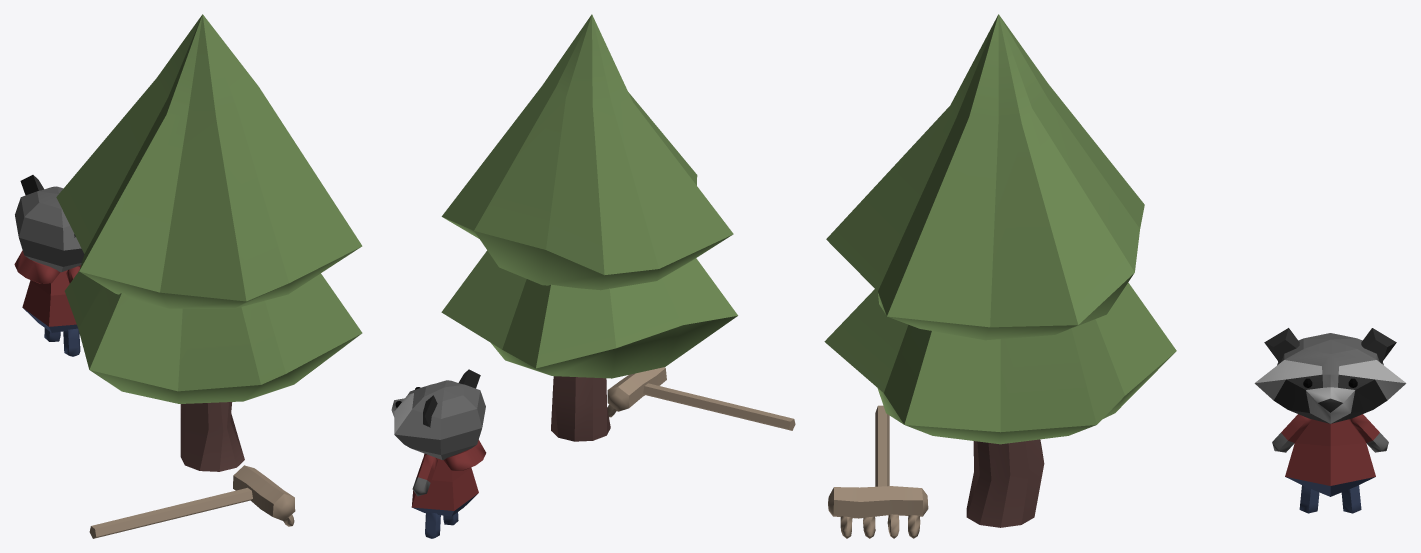
The model's file is art_xin.fbx.
3 views of the same model, side by side, from view 1: azimuth 30°, elevation 25°; view 2: azimuth 150°, elevation 25°; view 3: azimuth 270°, elevation 25° (orthographic). The views are drawn at different scales.
Parts seen in each view (by area): view 1: leaves1, leaves2, Head, trunk, handle, Body, main, Hoodie, LegRight; view 2: leaves1, leaves2, Head, trunk, Body, handle, main, Hoodie, ArmLeft, Ears; view 3: leaves1, leaves2, Head, trunk, Body, main, Ears, handle, ArmRight, ArmLeft.
Boxes of the visible parts, bbox=[...] form: leaves1: bbox=[56, 14, 362, 308]; leaves2: bbox=[64, 271, 362, 403]; Head: bbox=[15, 186, 84, 272]; trunk: bbox=[180, 402, 244, 471]; handle: bbox=[89, 487, 252, 538]; Body: bbox=[22, 265, 80, 332]; main: bbox=[233, 465, 295, 521]; Hoodie: bbox=[14, 250, 60, 283]; LegRight: bbox=[63, 328, 80, 356]; leaves1: bbox=[441, 14, 733, 290]; leaves2: bbox=[441, 250, 737, 378]; Head: bbox=[391, 380, 485, 460]; trunk: bbox=[551, 376, 610, 441]; Body: bbox=[411, 453, 478, 516]; handle: bbox=[643, 383, 795, 430]; main: bbox=[607, 367, 666, 411]; Hoodie: bbox=[443, 440, 486, 470]; ArmLeft: bbox=[412, 454, 437, 496]; Ears: bbox=[423, 369, 480, 427]; leaves1: bbox=[826, 14, 1144, 340]; leaves2: bbox=[824, 282, 1176, 444]; Head: bbox=[1254, 333, 1406, 423]; trunk: bbox=[966, 439, 1044, 527]; Body: bbox=[1285, 419, 1375, 496]; main: bbox=[828, 486, 928, 518]; Ears: bbox=[1264, 328, 1396, 363]; handle: bbox=[875, 405, 889, 486]; ArmRight: bbox=[1272, 414, 1311, 452]; ArmLeft: bbox=[1350, 414, 1388, 452].
Size of the model in its own units: 2.05 by 3.18 by 3.27.
